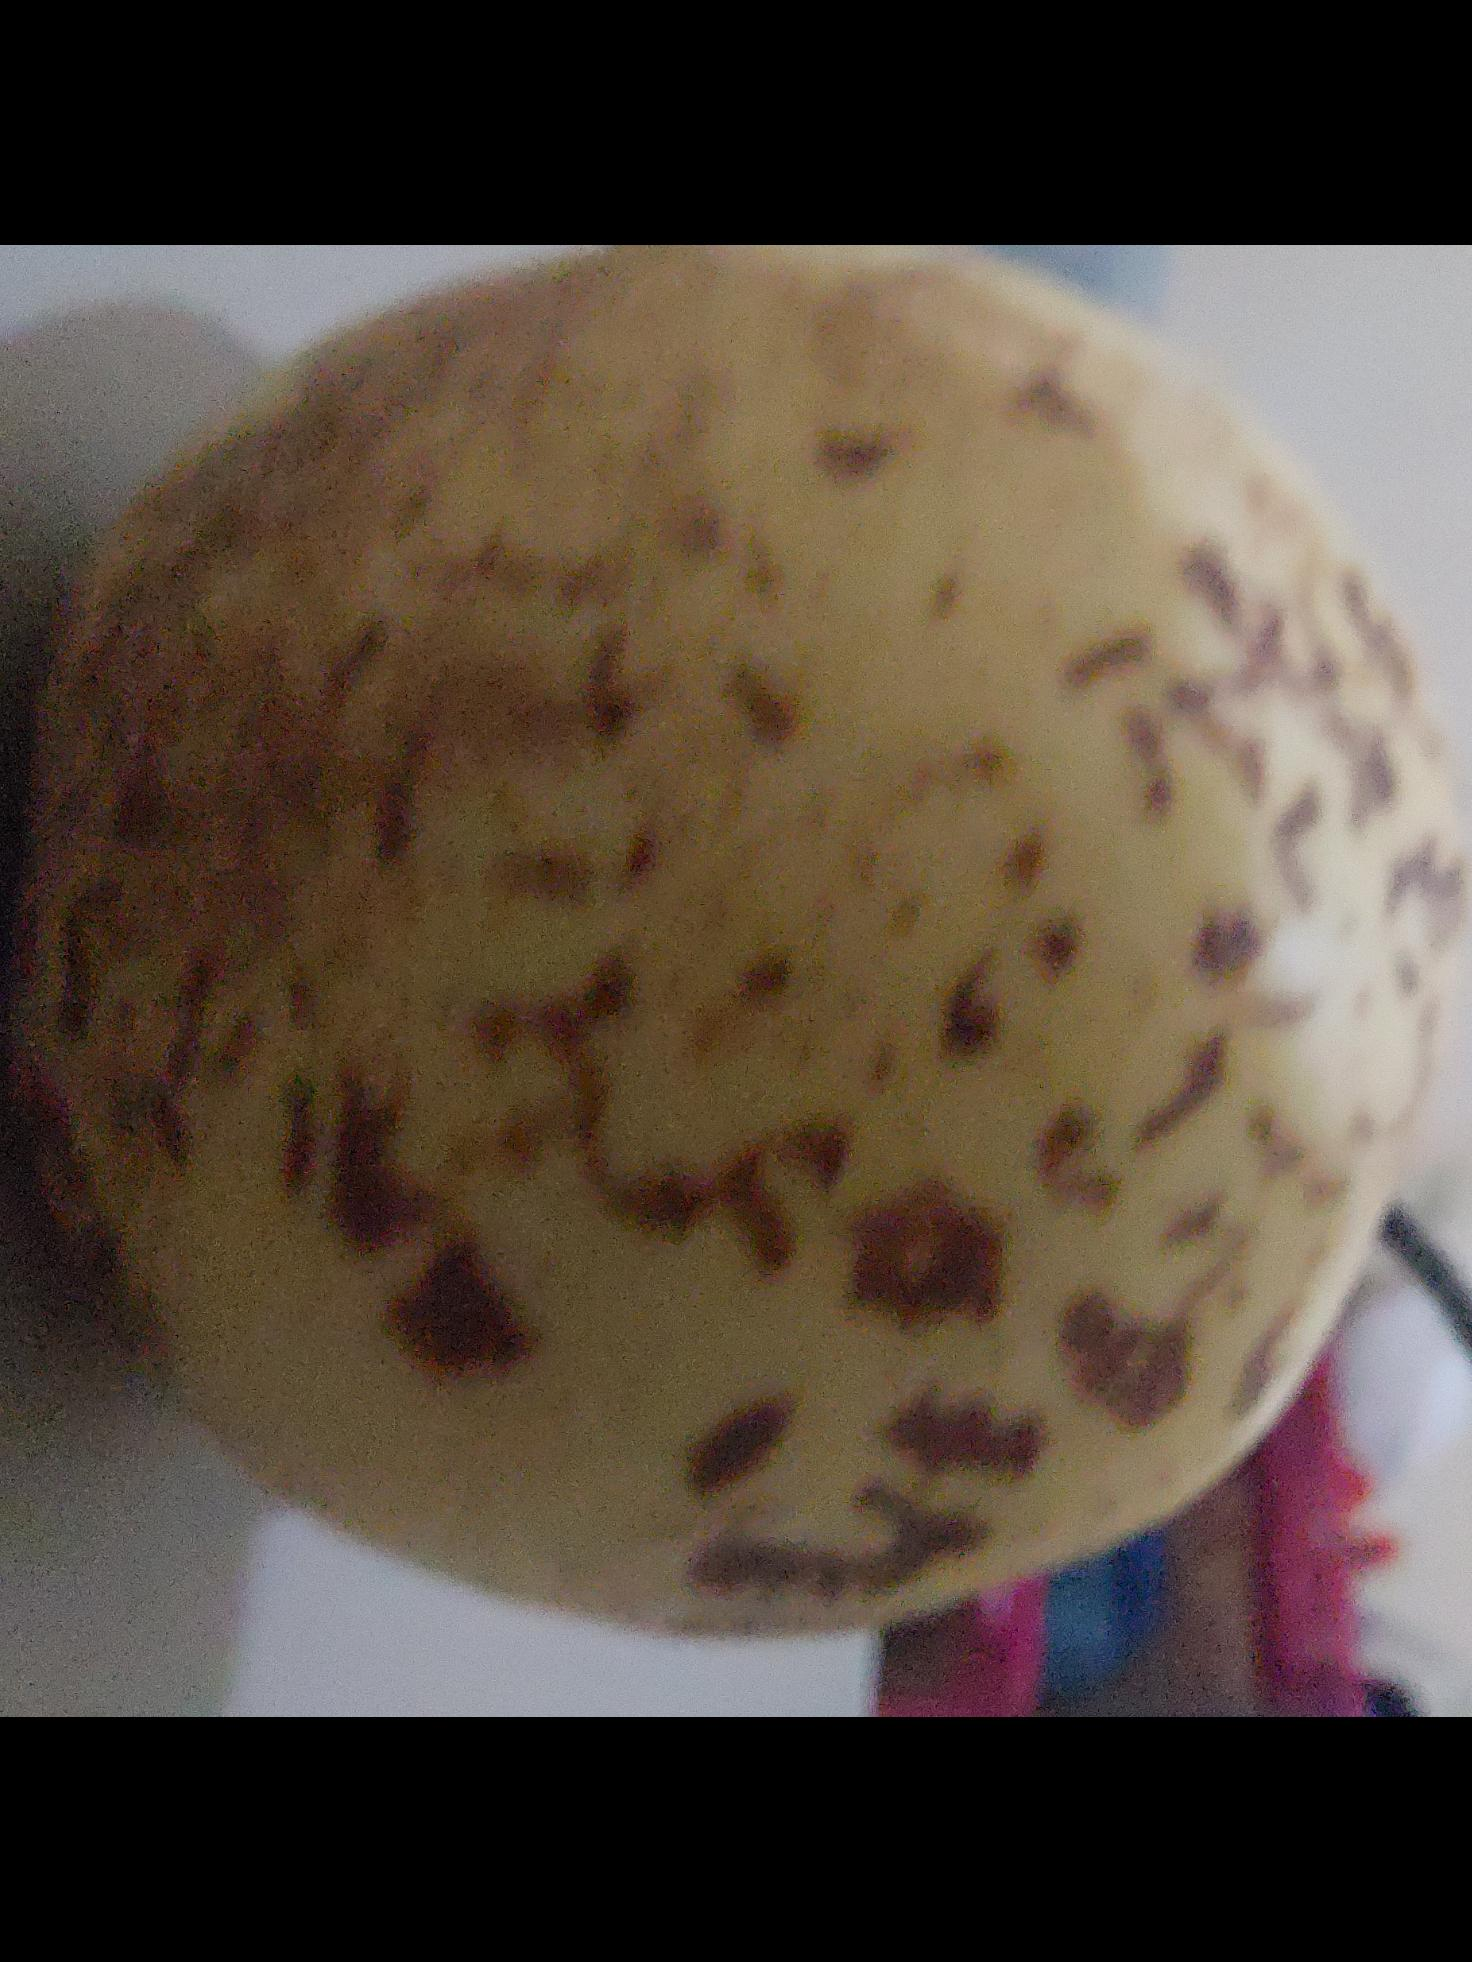Bad Pear: (54, 252, 1464, 1572)
